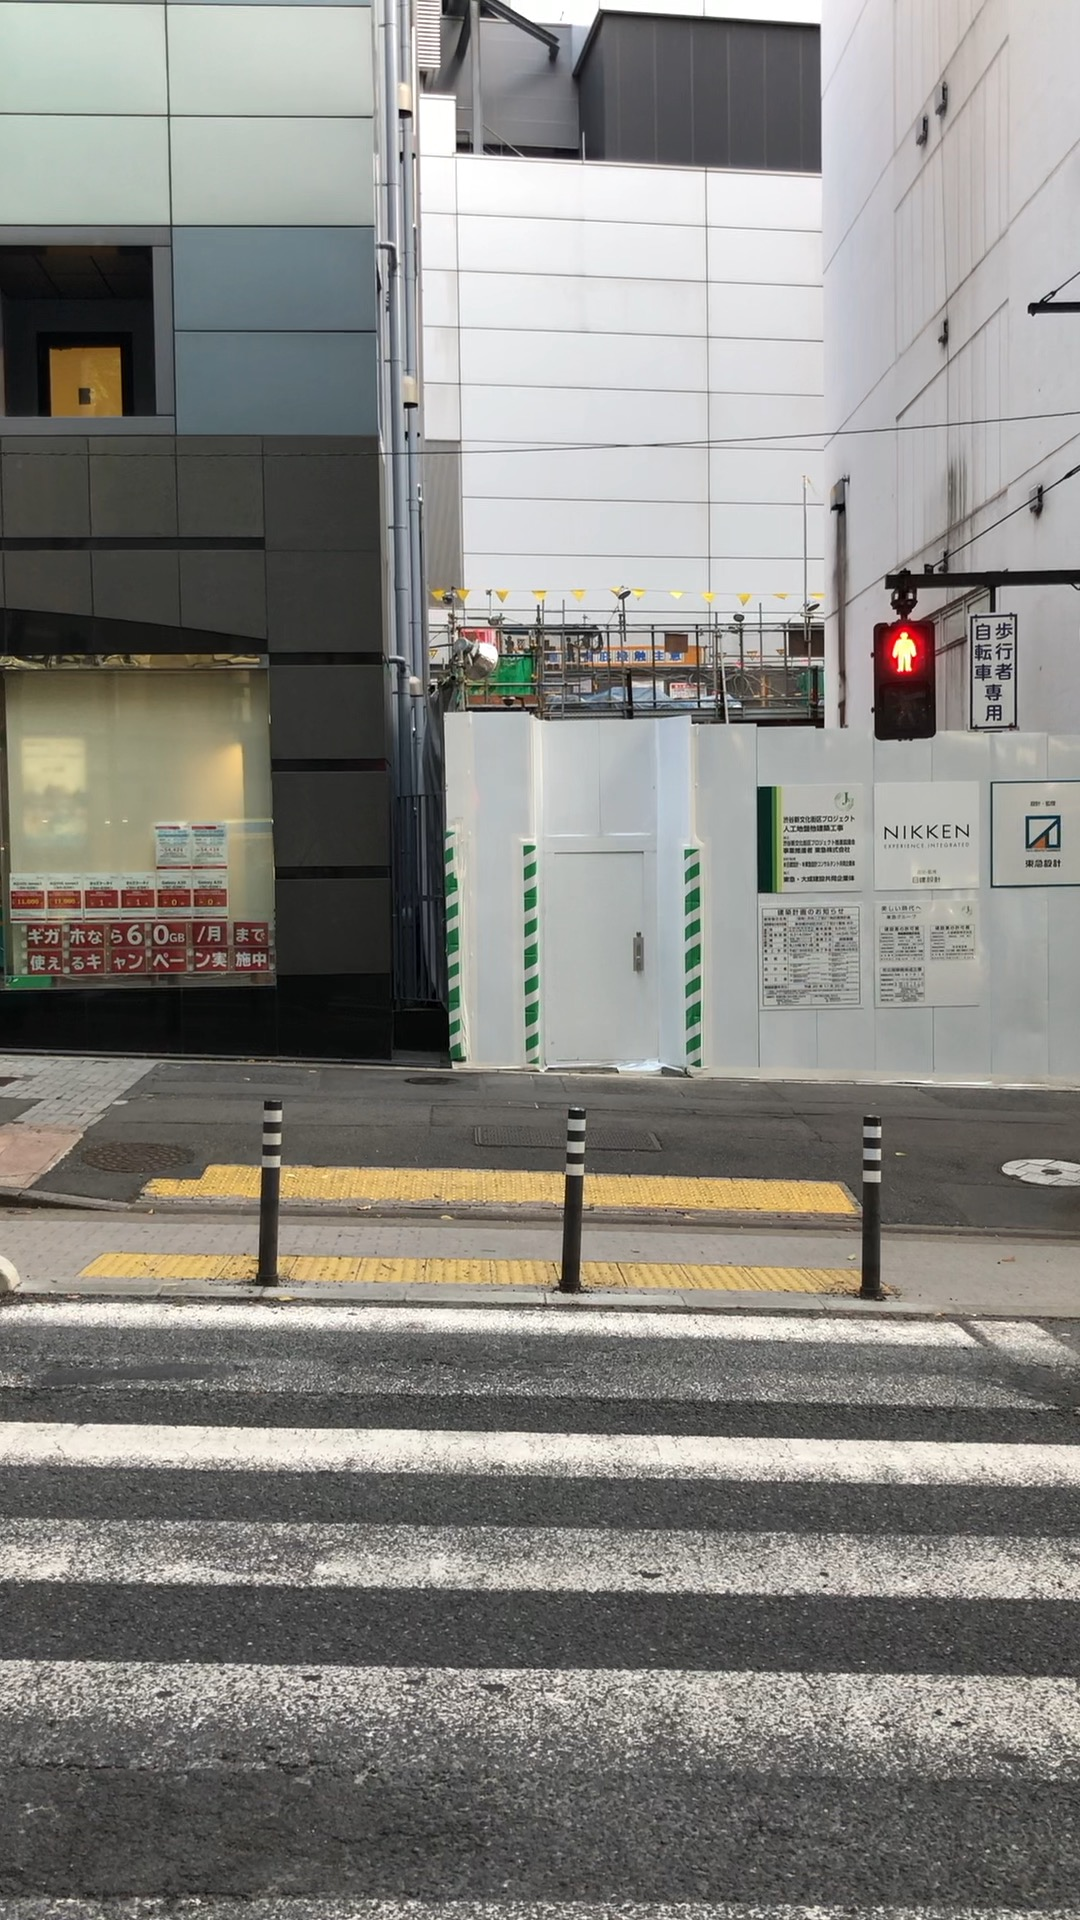red: (873, 621, 935, 741)
